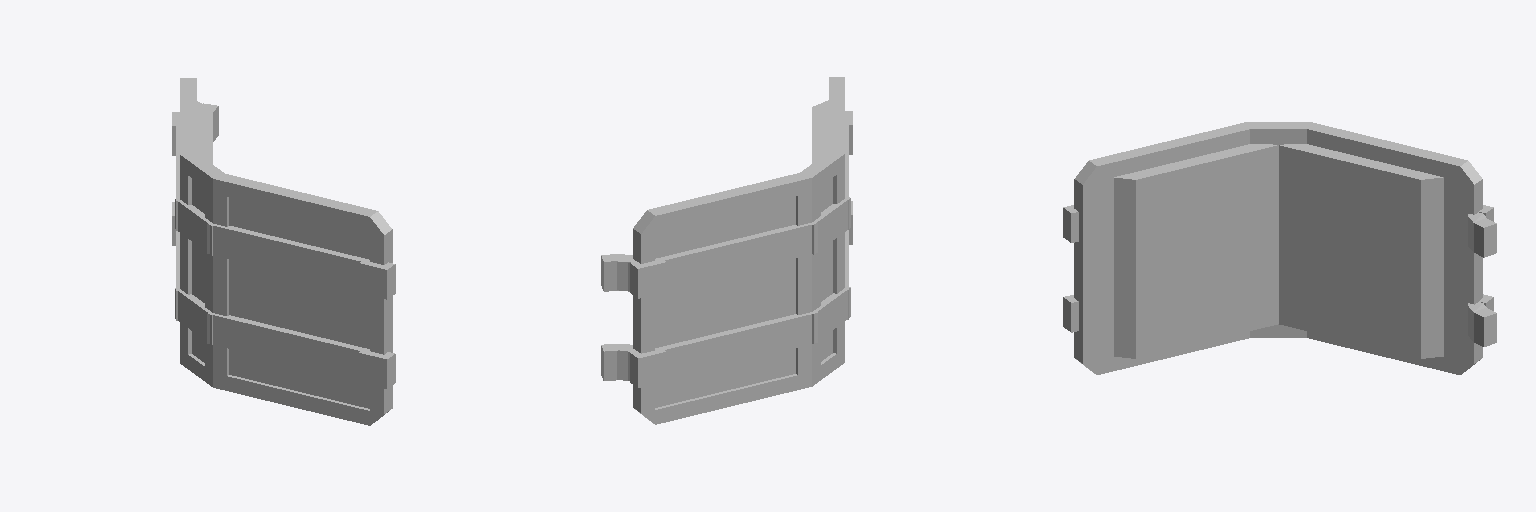
The model's file is bookshiftinglands_open.obj.
3 views of the same model, side by side, from view 1: azimuth 30°, elevation 25°; view 2: azimuth 150°, elevation 25°; view 3: azimuth 270°, elevation 25° (orthographic).
Visible parts, largest first — view 1: COVER_RIGHT_OPEN_Cube.023, SPINE_OPEN_Cube.024, COVER_LEFT_OPEN_Cube.025, PAGES_LEFT_OPEN_Cube.026; view 2: COVER_LEFT_OPEN_Cube.025, SPINE_OPEN_Cube.024, COVER_RIGHT_OPEN_Cube.023, PAGES_RIGHT_OPEN_Cube.022; view 3: PAGES_RIGHT_OPEN_Cube.022, PAGES_LEFT_OPEN_Cube.026, COVER_LEFT_OPEN_Cube.025, COVER_RIGHT_OPEN_Cube.023, SPINE_OPEN_Cube.024.
Boxes of the visible parts, box(x1,y1,x2,y2) form: COVER_RIGHT_OPEN_Cube.023: box(207, 174, 395, 425); SPINE_OPEN_Cube.024: box(175, 153, 225, 386); COVER_LEFT_OPEN_Cube.025: box(172, 78, 218, 320); PAGES_LEFT_OPEN_Cube.026: box(197, 101, 212, 163); COVER_LEFT_OPEN_Cube.025: box(601, 172, 817, 424); SPINE_OPEN_Cube.024: box(799, 152, 850, 386); COVER_RIGHT_OPEN_Cube.023: box(829, 77, 852, 319); PAGES_RIGHT_OPEN_Cube.022: box(812, 100, 828, 163); PAGES_RIGHT_OPEN_Cube.022: box(1114, 144, 1278, 358); PAGES_LEFT_OPEN_Cube.026: box(1279, 144, 1443, 358); COVER_LEFT_OPEN_Cube.025: box(1304, 122, 1496, 374); COVER_RIGHT_OPEN_Cube.023: box(1063, 122, 1252, 374); SPINE_OPEN_Cube.024: box(1246, 122, 1311, 337).
Size of the model in its own units: 0.5691 by 0.875 by 1.64.